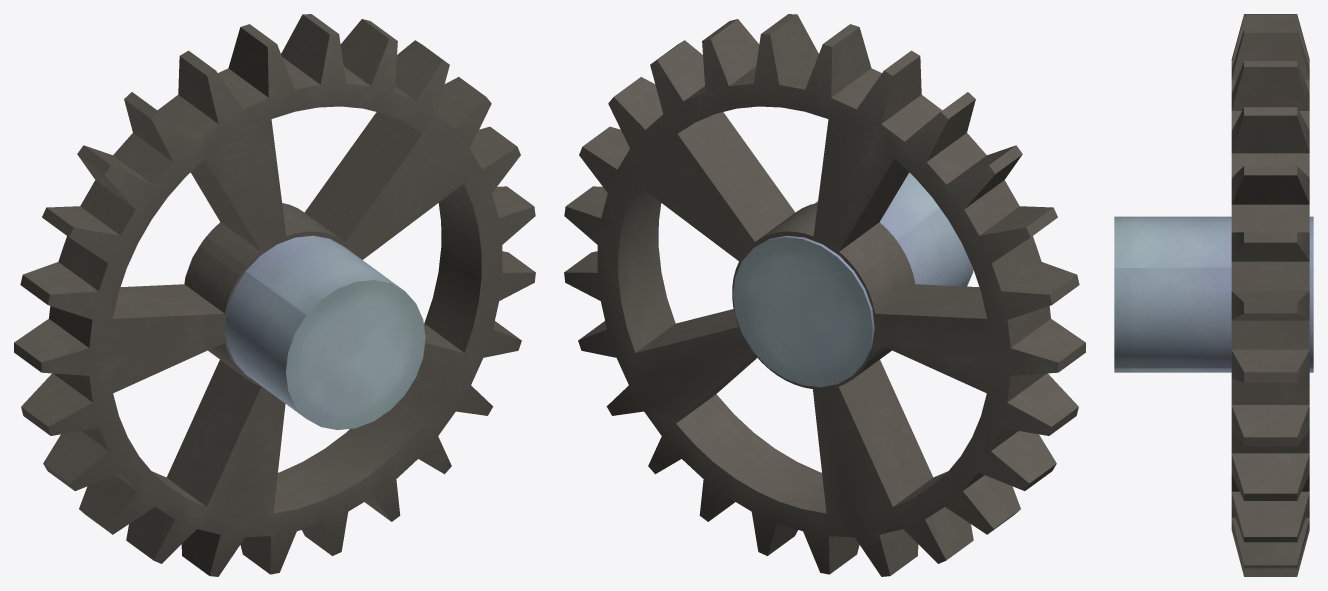
The model's file is module-timer-04.glb.
The picture shows the model from 3 angles, left to right: view 1: azimuth 30°, elevation 25°; view 2: azimuth 150°, elevation 25°; view 3: azimuth 270°, elevation 25°; orthographic projection. The views are drawn at different scales.
Visible parts, largest first — view 1: Mesh_0.005; view 2: Mesh_0.005; view 3: Mesh_0.005.
Part boxes in pixels (box(x1,y1,x2,y2)): Mesh_0.005: box(14, 14, 535, 576); Mesh_0.005: box(564, 14, 1085, 576); Mesh_0.005: box(1114, 14, 1313, 576).
Bounding box in the file's own units: 0.7071 × 0.7235 × 0.255.
1 material, 1 textured.
